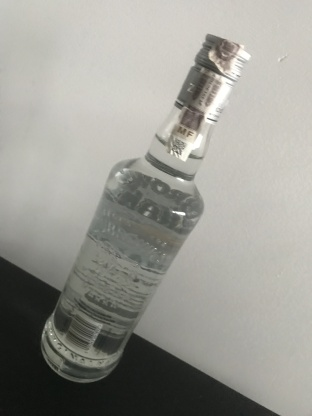nakretka: (172, 31, 252, 127)
